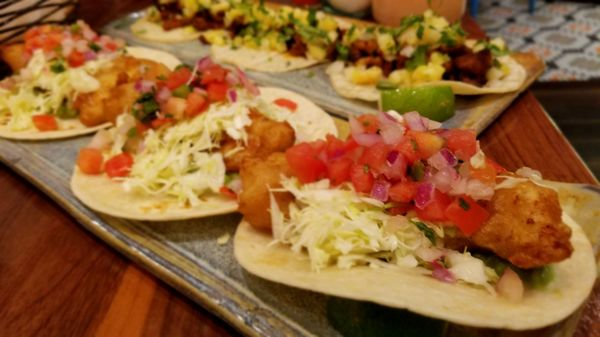soup: (245, 109, 577, 302)
